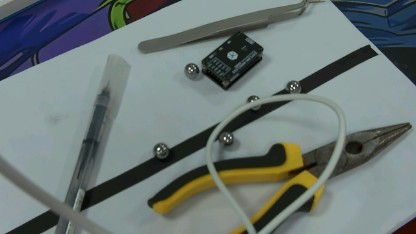ironball: (148, 135, 169, 158), (282, 76, 302, 95), (181, 62, 200, 78), (216, 130, 233, 146), (247, 95, 261, 110)
